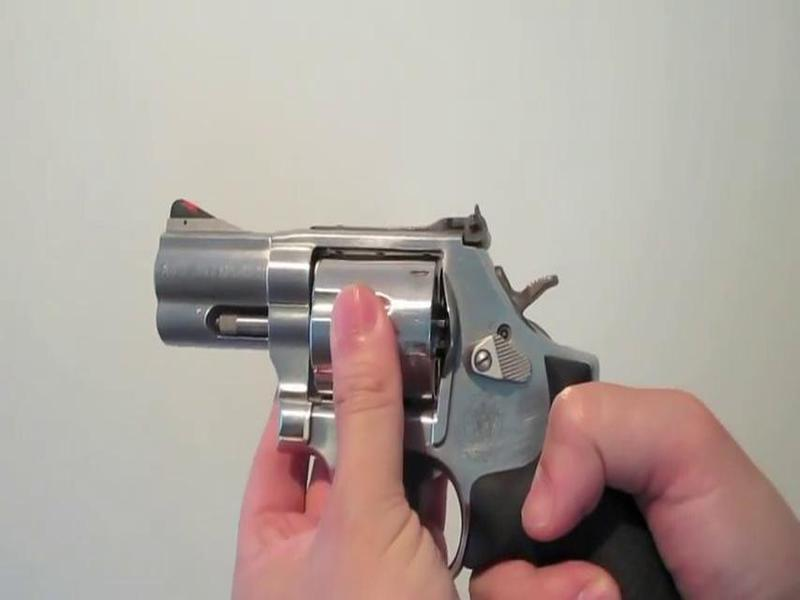Revolver: (137, 185, 693, 600)
